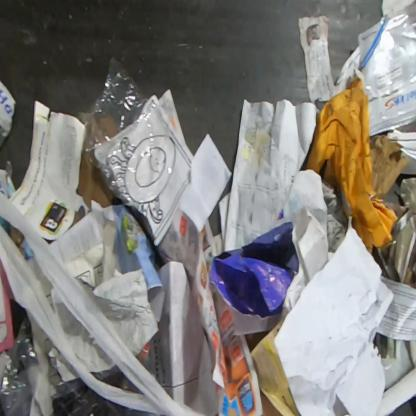cardboard: (369, 134, 412, 200), (77, 152, 114, 209)
soft_plastic: (82, 55, 175, 207), (0, 316, 46, 415)
